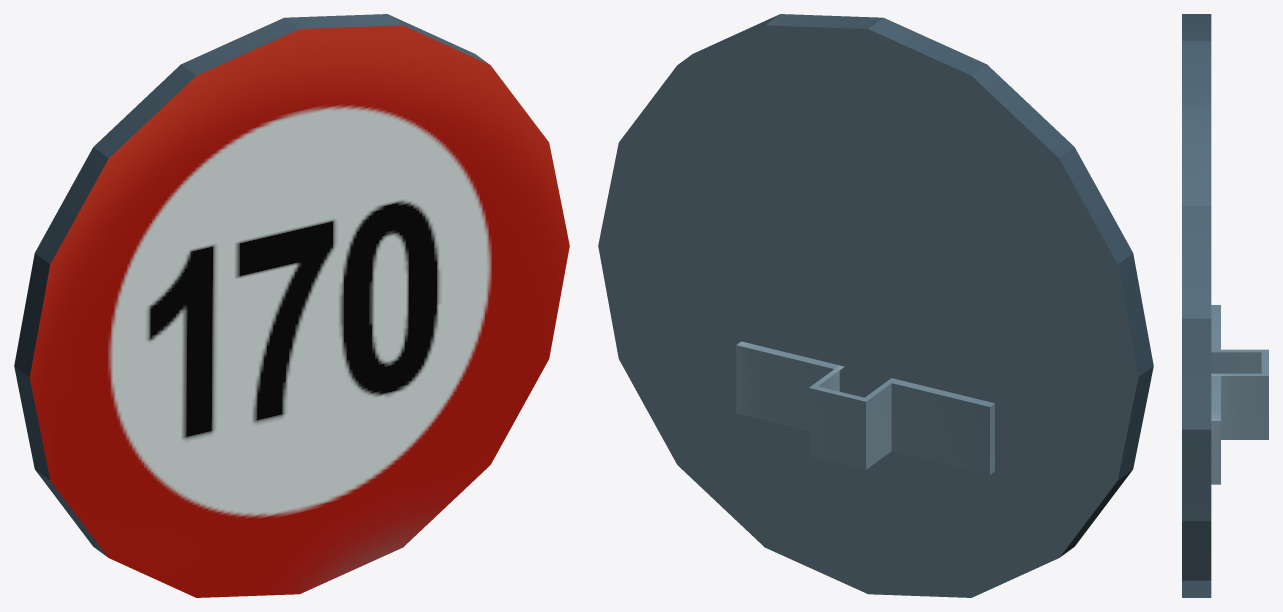
File: Sign38Austrian.fbx
The picture shows the model from 3 angles, left to right: view 1: azimuth 30°, elevation 25°; view 2: azimuth 150°, elevation 25°; view 3: azimuth 270°, elevation 25°; orthographic projection. The views are drawn at different scales.
Parts seen in each view (by area): view 1: Sign38Austrian; view 2: Sign38Austrian; view 3: Sign38Austrian.
Part boxes in pixels (bbox=[...]): Sign38Austrian: bbox=[14, 14, 569, 597]; Sign38Austrian: bbox=[598, 14, 1153, 597]; Sign38Austrian: bbox=[1182, 14, 1268, 597].
Size of the model in its own units: 1 by 1 by 0.1489.
